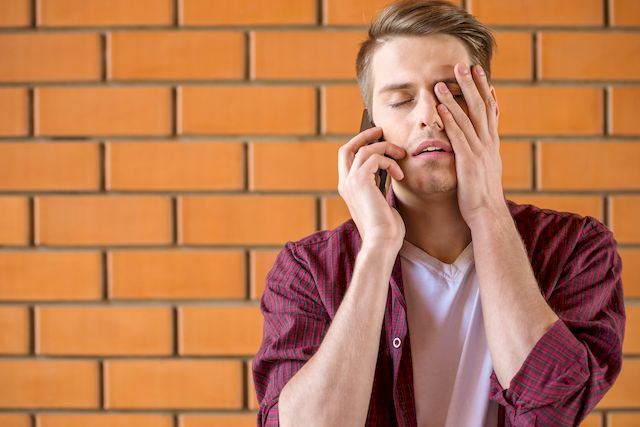phone: (349, 118, 403, 197)
talk: (338, 65, 486, 243)
